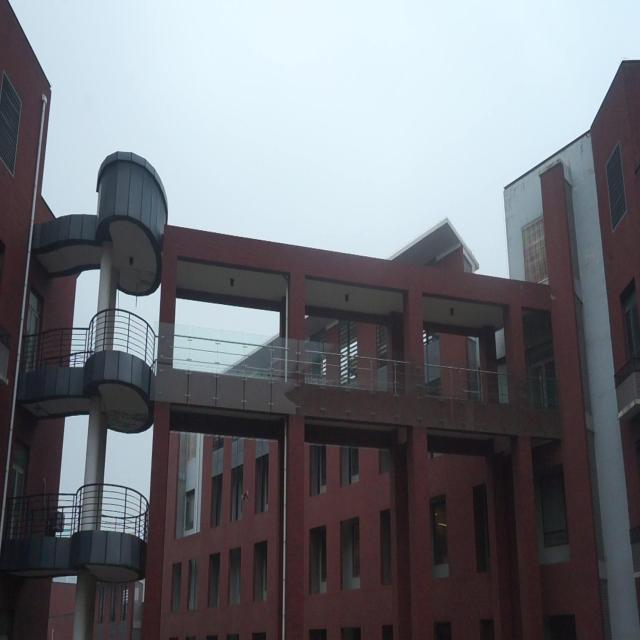drone: (236, 485, 256, 506)
